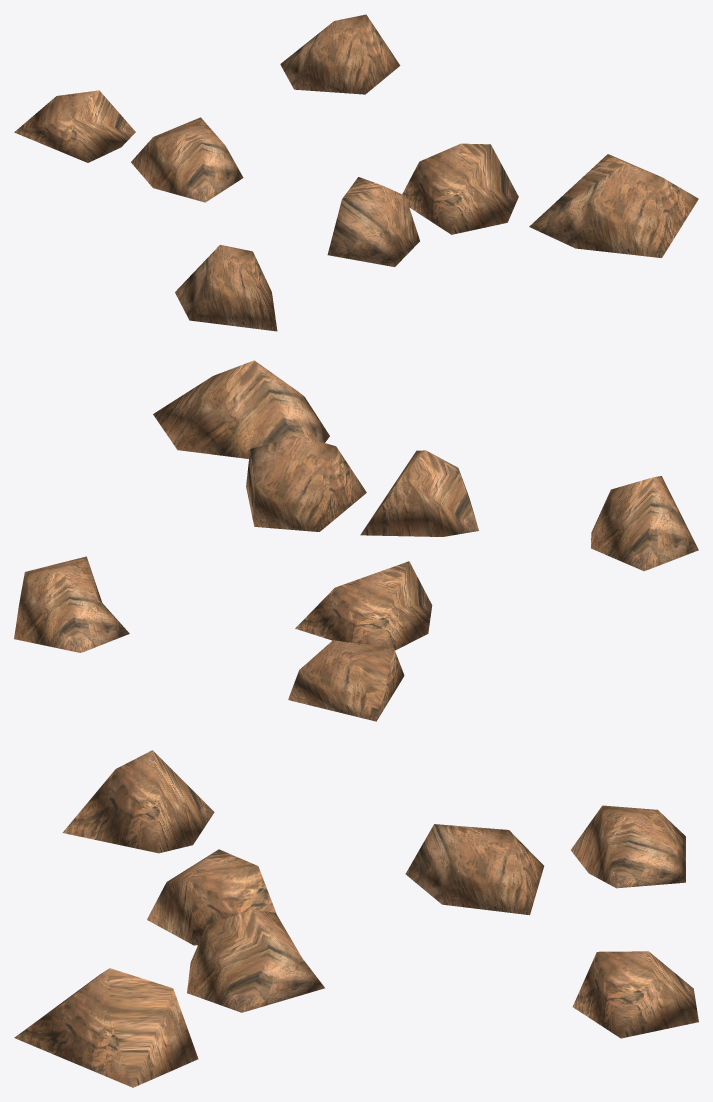
The model's file is rock_tatt_bensmesa_pebbles_a1_l2.fbx.
The picture shows the model from 3 angles, top to bottom: view 1: azimuth 30°, elevation 25°; view 2: azimuth 150°, elevation 25°; view 3: azimuth 270°, elevation 25°; orthographic projection. The views are drawn at different scales.
Parts seen in each view (by area): view 1: mesh_node; view 2: mesh_node; view 3: mesh_node.
Part boxes in pixels (left/top/right/bottom): mesh_node: left=14, top=14, right=698, bottom=331; mesh_node: left=14, top=360, right=698, bottom=721; mesh_node: left=14, top=750, right=698, bottom=1087.
Size of the model in its own units: 1.21 by 0.1439 by 1.22.
